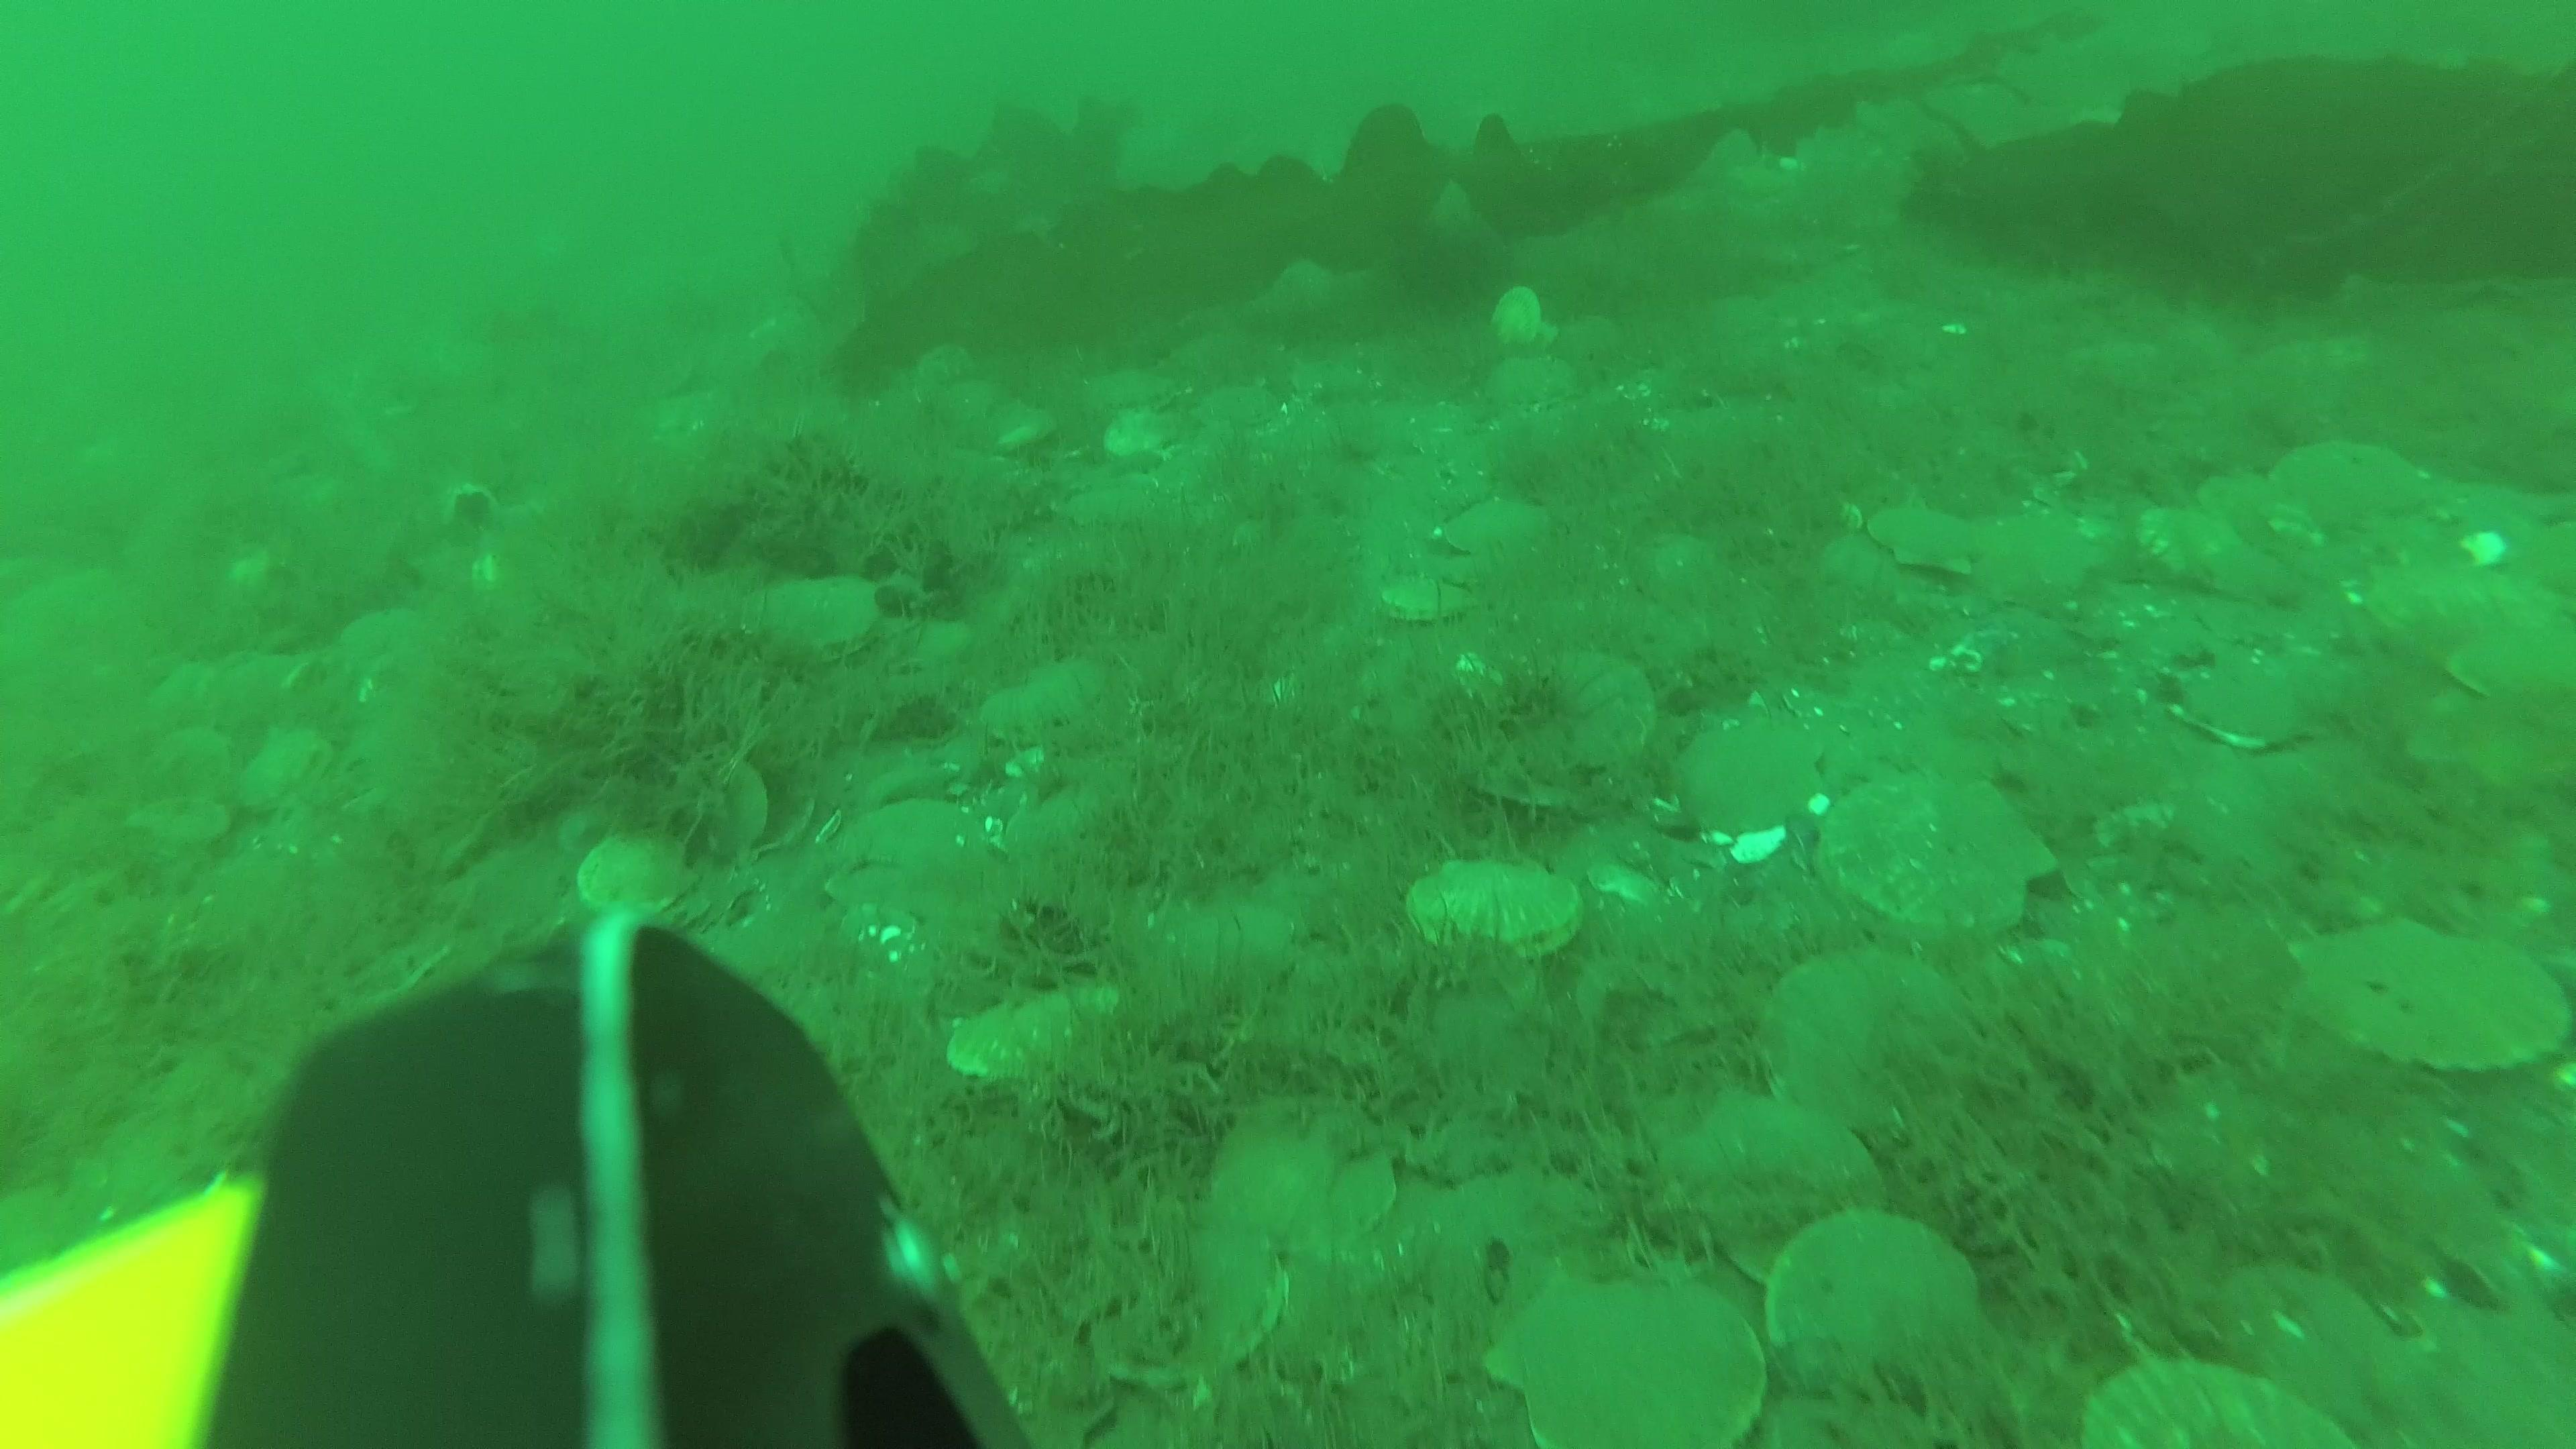scallop: (2293, 908, 2576, 1092), (1488, 1263, 1764, 1449), (1815, 770, 2065, 941), (1652, 1093, 1891, 1265), (1757, 948, 1974, 1136), (1760, 1207, 1974, 1385), (2072, 1345, 2376, 1449), (1097, 1230, 1288, 1382), (1208, 1104, 1394, 1260), (2217, 1254, 2396, 1401), (1405, 853, 1585, 971), (1493, 653, 1652, 782), (941, 975, 1123, 1086), (1683, 724, 1822, 851), (2178, 656, 2323, 759), (2273, 437, 2426, 529), (1969, 513, 2104, 609), (757, 571, 886, 667), (2204, 464, 2328, 561), (2143, 494, 2256, 600), (2447, 630, 2576, 720), (577, 837, 702, 922), (1863, 495, 1983, 580), (678, 754, 777, 853), (1438, 492, 1546, 570), (1486, 349, 1576, 421), (248, 738, 331, 814), (1373, 563, 1476, 623), (1196, 377, 1286, 430), (1490, 278, 1557, 349), (1100, 405, 1175, 467), (156, 796, 234, 855), (1090, 364, 1175, 418)
